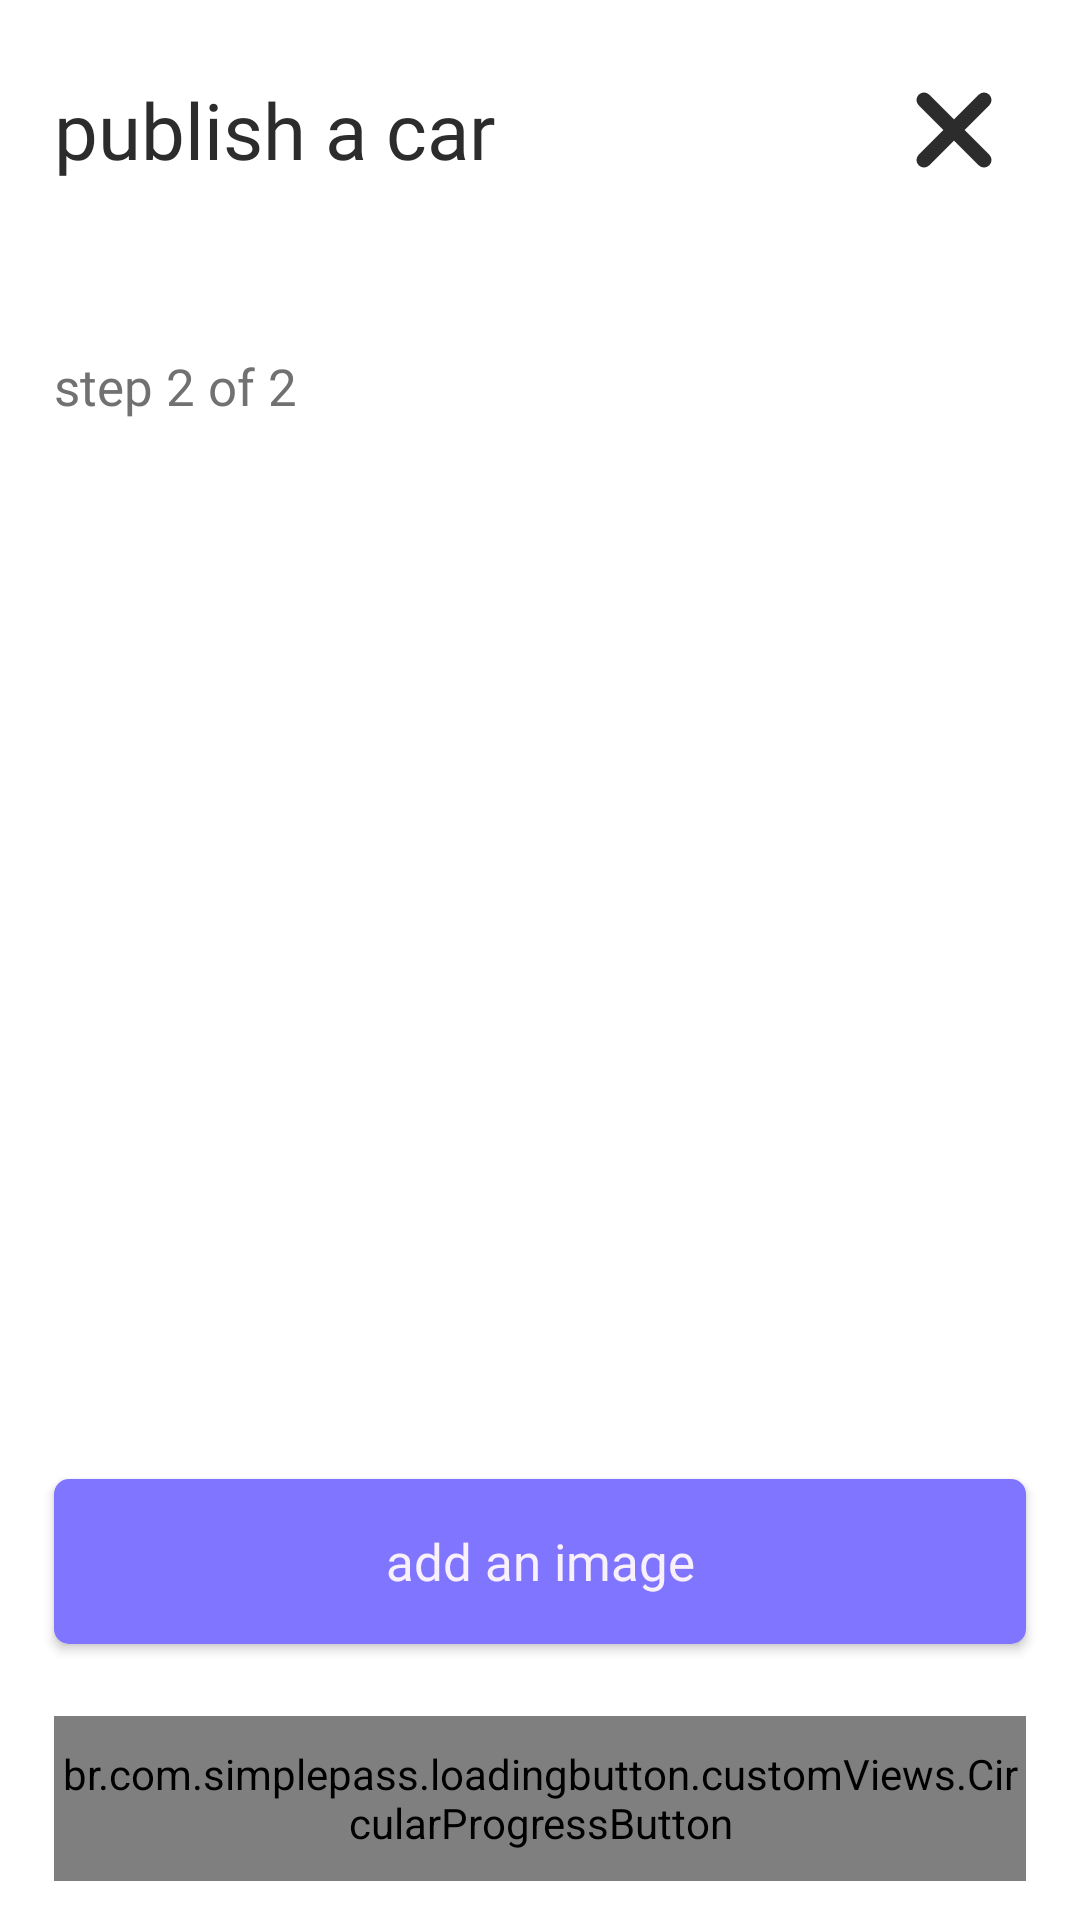

Named icons in this screenshot (1080 × 1920) and their bounding boxes, (x1, y1, x2, y2):
close: (916, 92, 992, 168)
